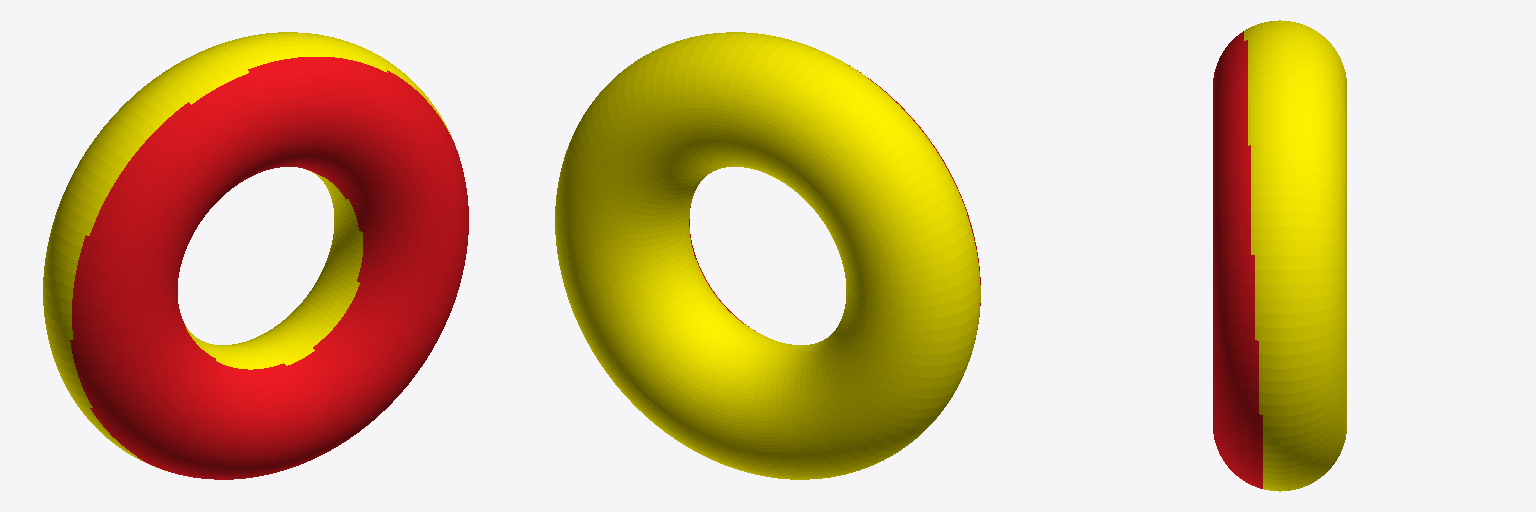
Rendered from ring.obj.
The picture shows the model from 3 angles: view 1: azimuth 30°, elevation 25°; view 2: azimuth 150°, elevation 25°; view 3: azimuth 270°, elevation 25°; orthographic projection.
Parts seen in each view (by area): view 1: Object.1; view 2: Object.1; view 3: Object.1.
Part boxes in pixels (left/top/right/bottom): Object.1: left=43, top=32, right=468, bottom=479; Object.1: left=555, top=32, right=980, bottom=479; Object.1: left=1213, top=20, right=1346, bottom=491.
Bounding box in the file's own units: 70 × 70 × 20.